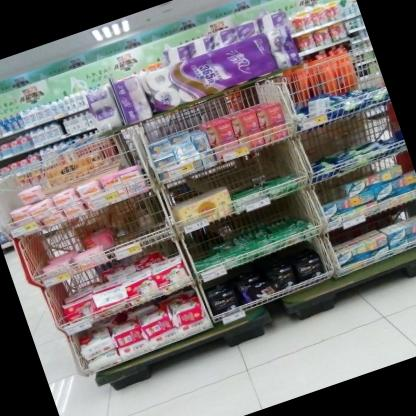empty_space: (110, 196, 167, 250)
